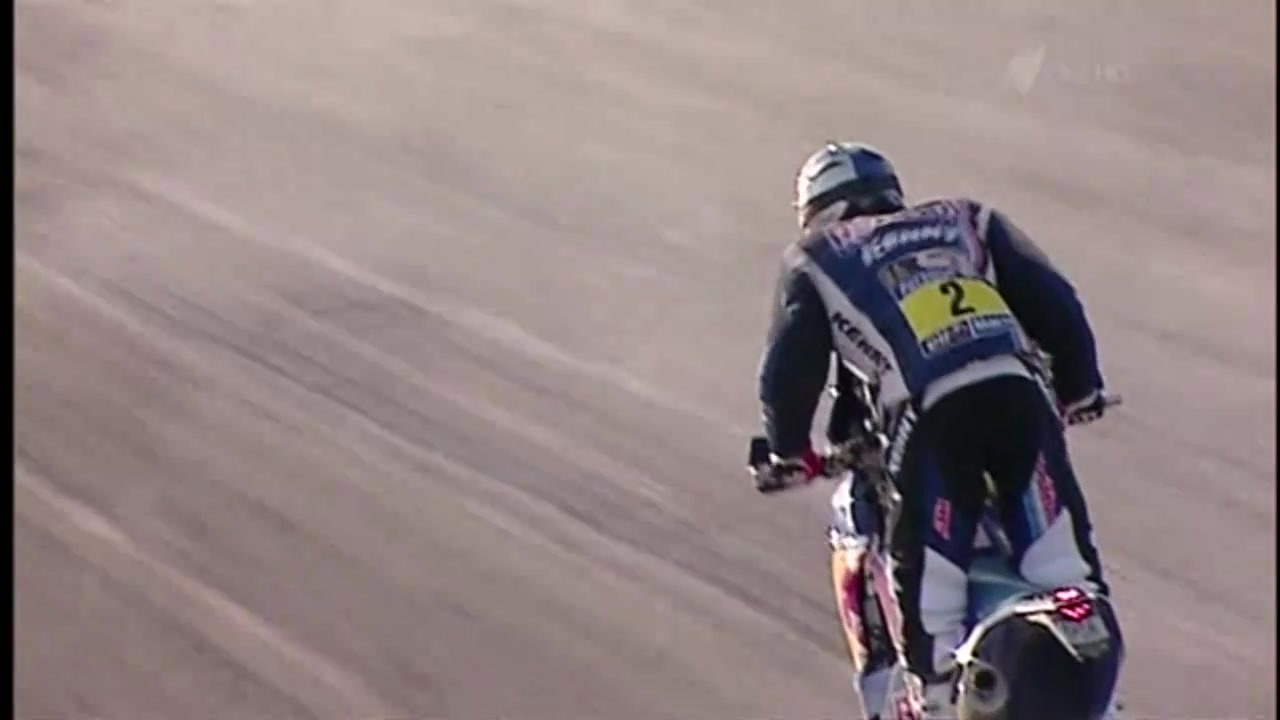motorbike: (743, 332, 1125, 719)
